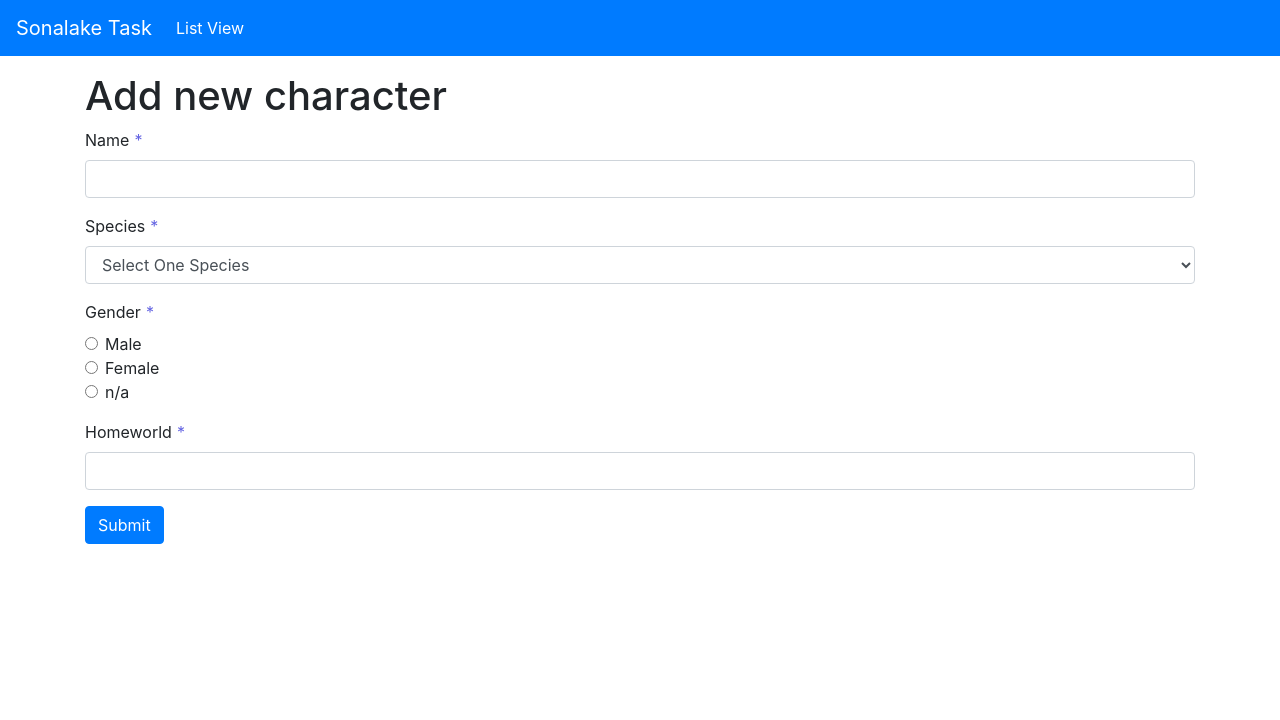
sonalake add character test › should validate all form fields on submit
The image size is (1280, 720).
Step 1. Click the submit button → (125, 525), box [85,506,164,544]
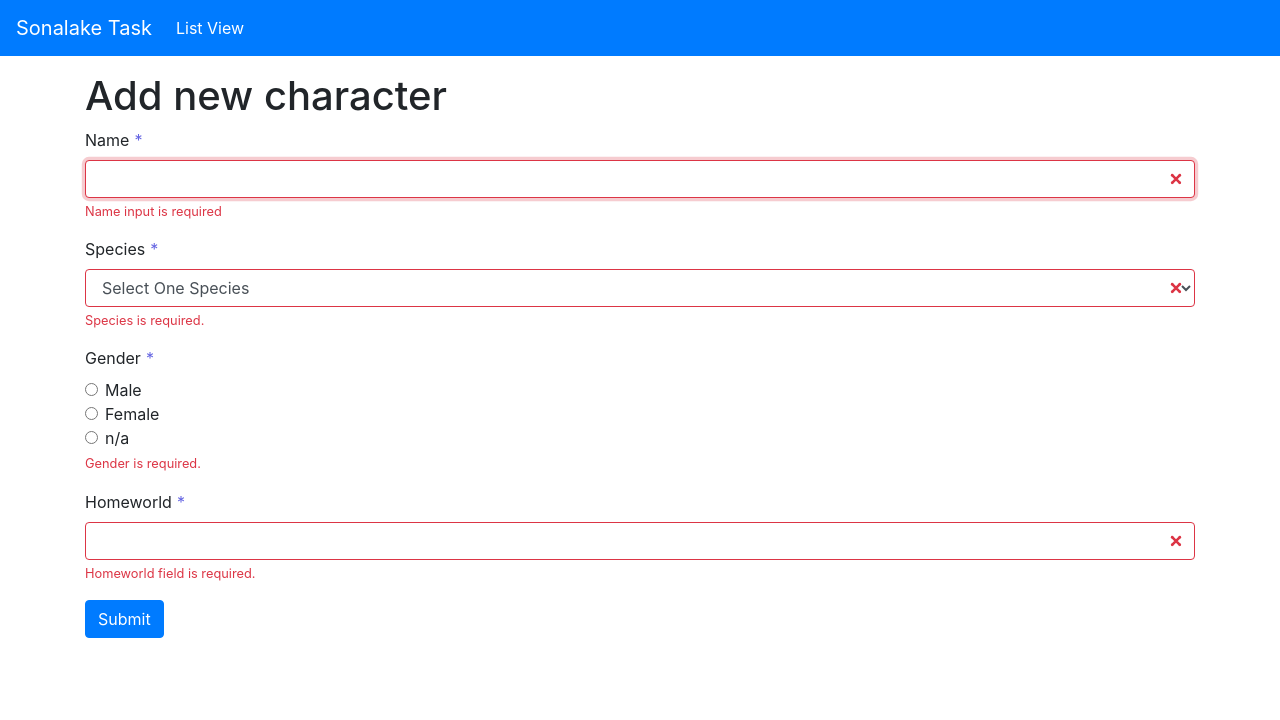
expect the text "Gender is required." is shown: met, box [85,456,201,471]
